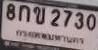letters: (33, 6, 45, 24), (19, 5, 30, 22), (50, 9, 60, 27), (6, 3, 16, 20), (63, 10, 73, 27), (75, 12, 84, 29), (87, 13, 96, 30)
province: (16, 29, 84, 44)
